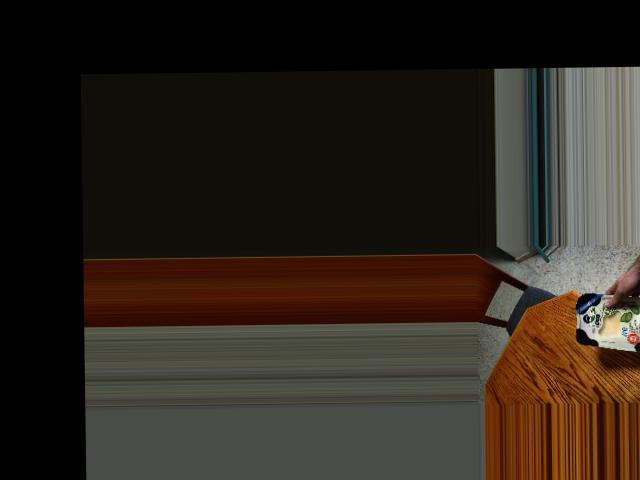cheese: (566, 288, 640, 343)
